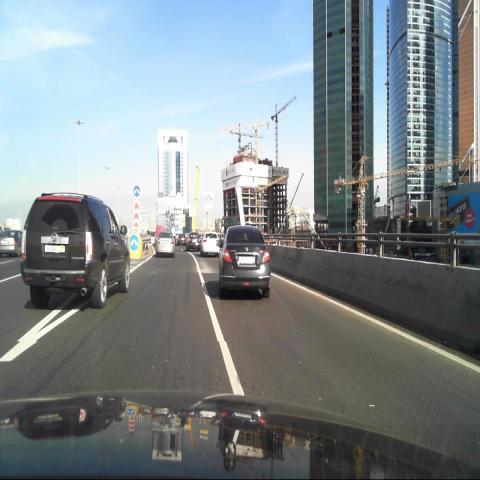4_2_3: (129, 233, 139, 252), (133, 186, 141, 198)
